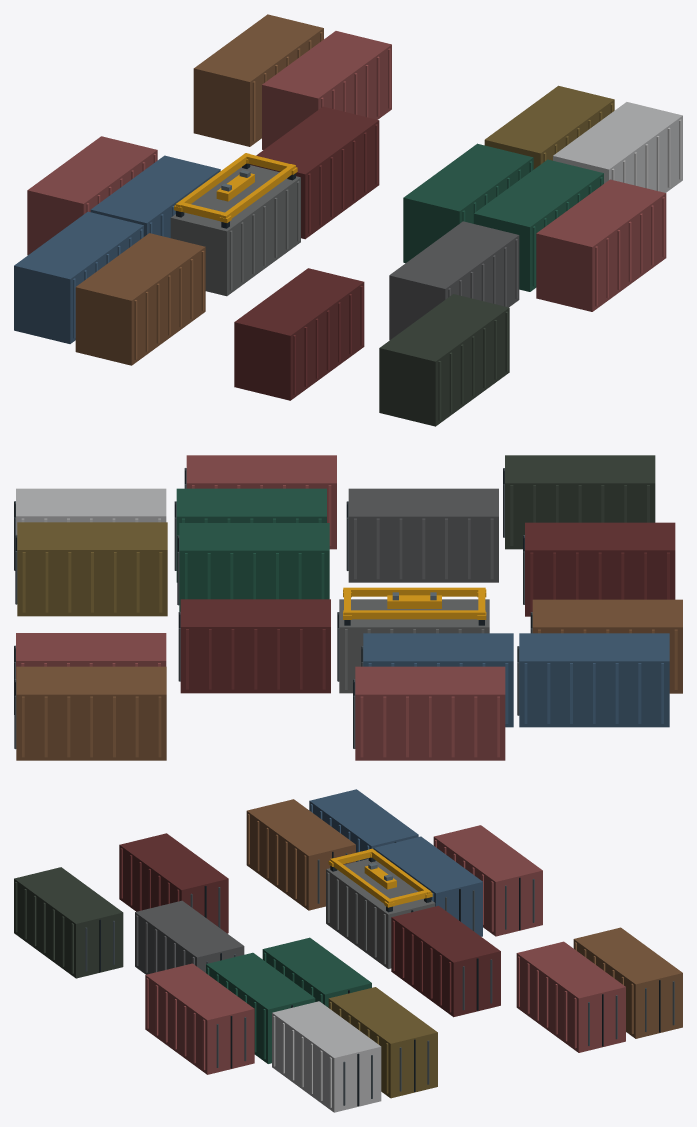
Rendered from containers-ne-sw-07.glb.
3 renders of one model, top to bottom at view 1: azimuth 30°, elevation 25°; view 2: azimuth 150°, elevation 25°; view 3: azimuth 270°, elevation 25°, orthographic. The views are drawn at different scales.
Parts seen in each view (by area): view 1: containers-ne-sw-07; view 2: containers-ne-sw-07; view 3: containers-ne-sw-07.
Boxes of the visible parts, x1,y1,x2,y2 form: containers-ne-sw-07: (14,14,682,426); containers-ne-sw-07: (14,455,682,760); containers-ne-sw-07: (14,789,682,1112).
Size of the model in its own units: 67.63 by 8.25 by 71.1.
